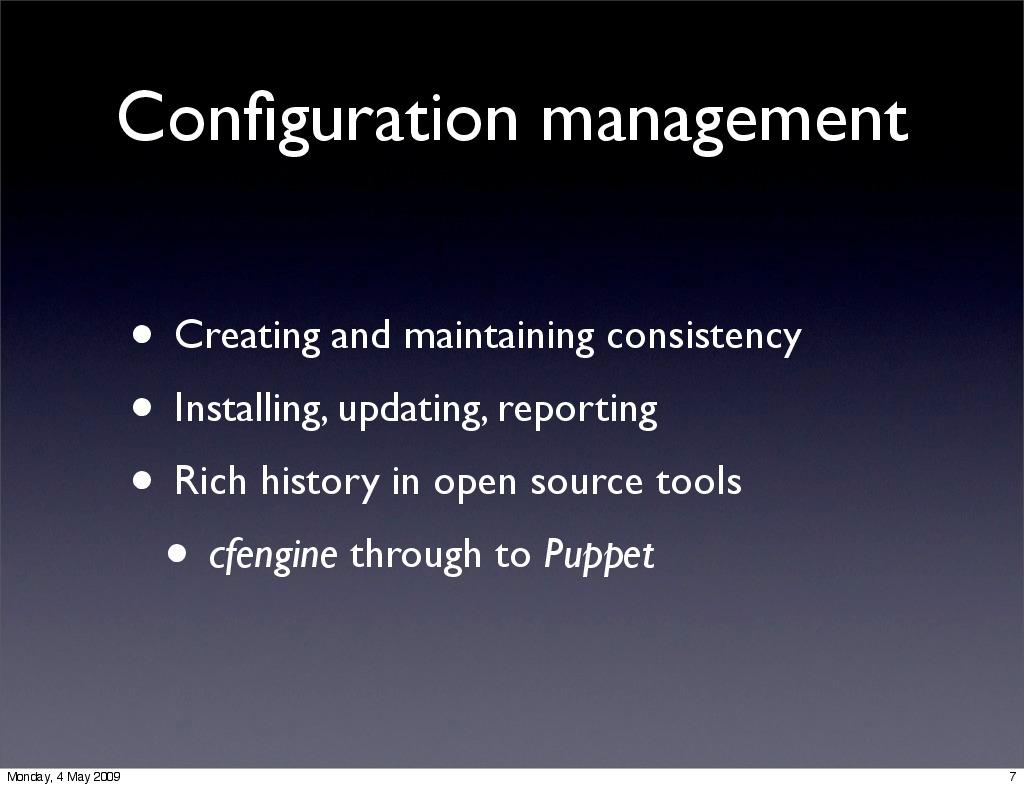paragraph: (119, 271, 848, 608)
title: (111, 62, 926, 179)
